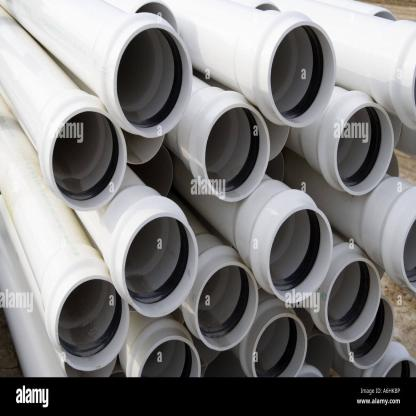PVC: (1, 0, 416, 378)
